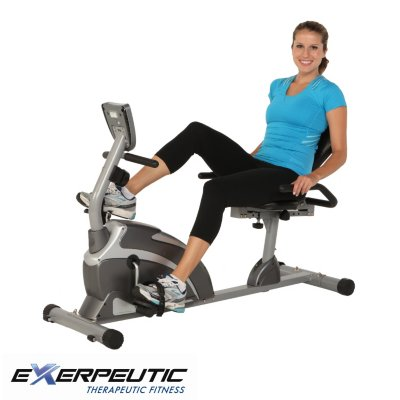gym_bike: (35, 97, 363, 360)
